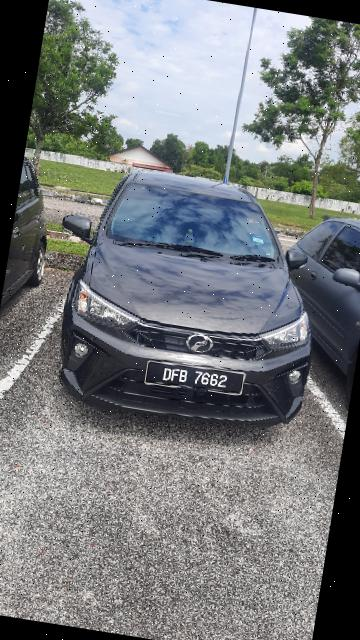License_Plate: (144, 356, 249, 401)
car: (31, 156, 344, 445)
